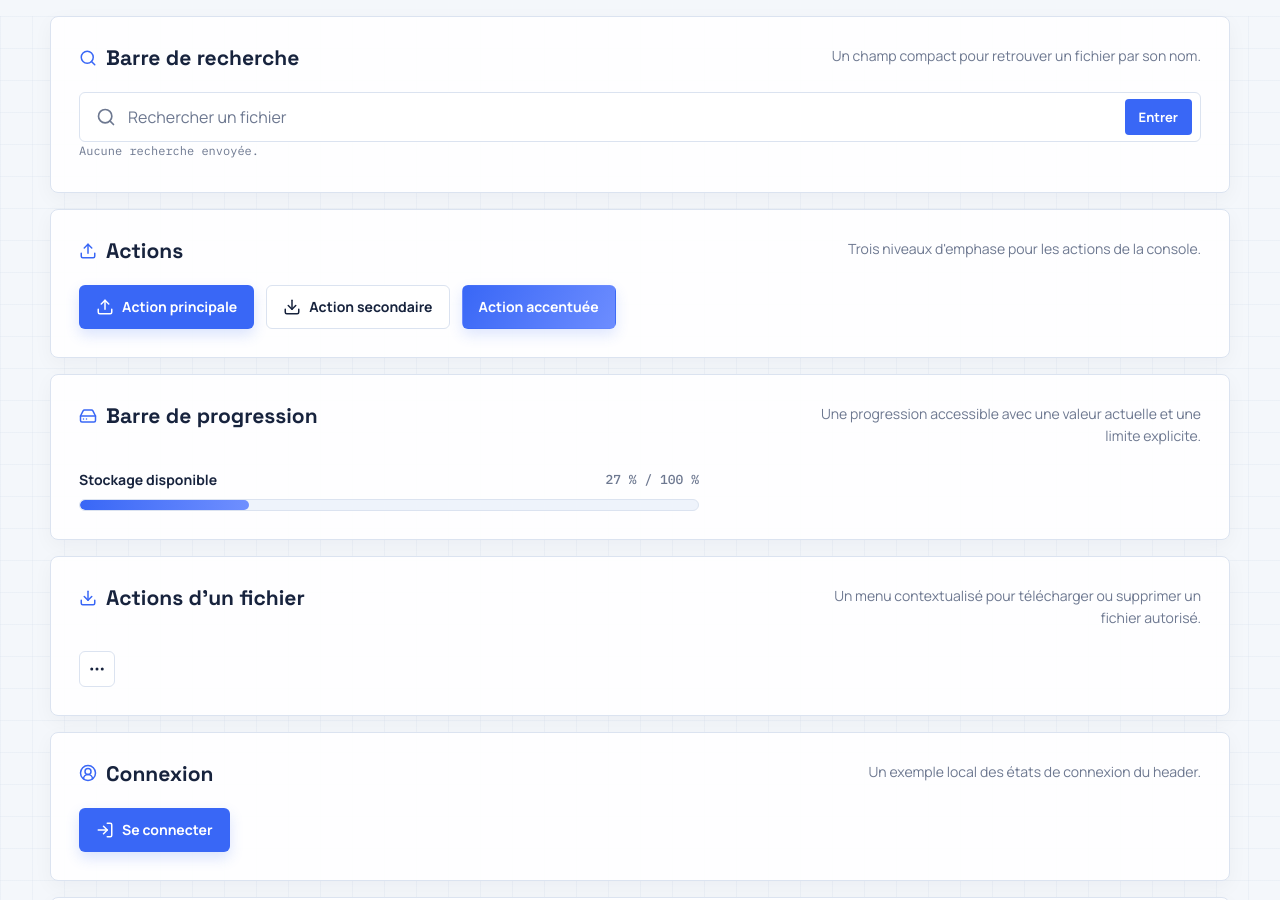
Test: SharedComponentsShowcasePage › displays the submitted search value
Type "rapport.pdf" into the search field labelled "Rechercher un fichier" at (620, 117), box [126, 104, 1115, 131]
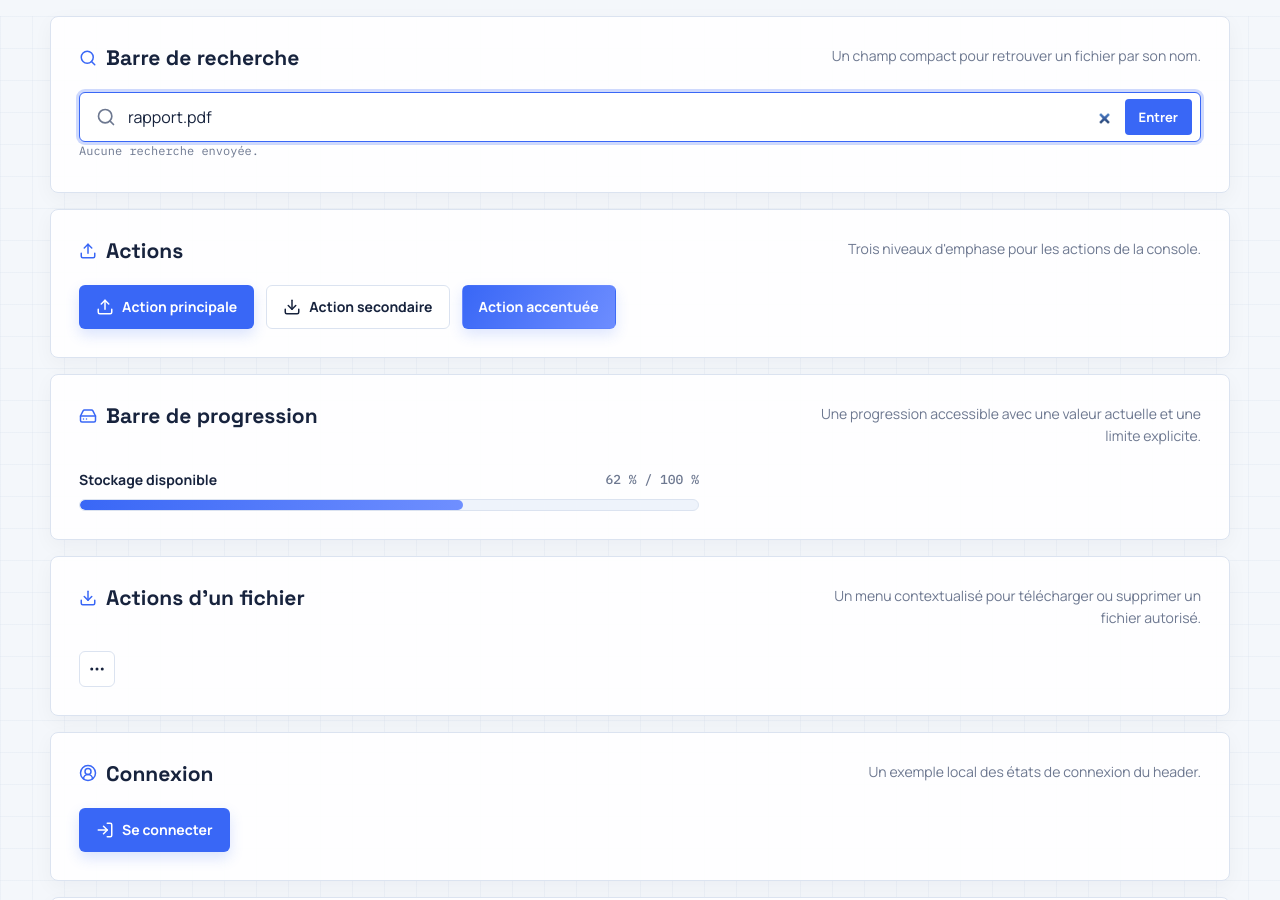
Click the button "Entrer" at (1158, 117), box [1125, 99, 1192, 135]
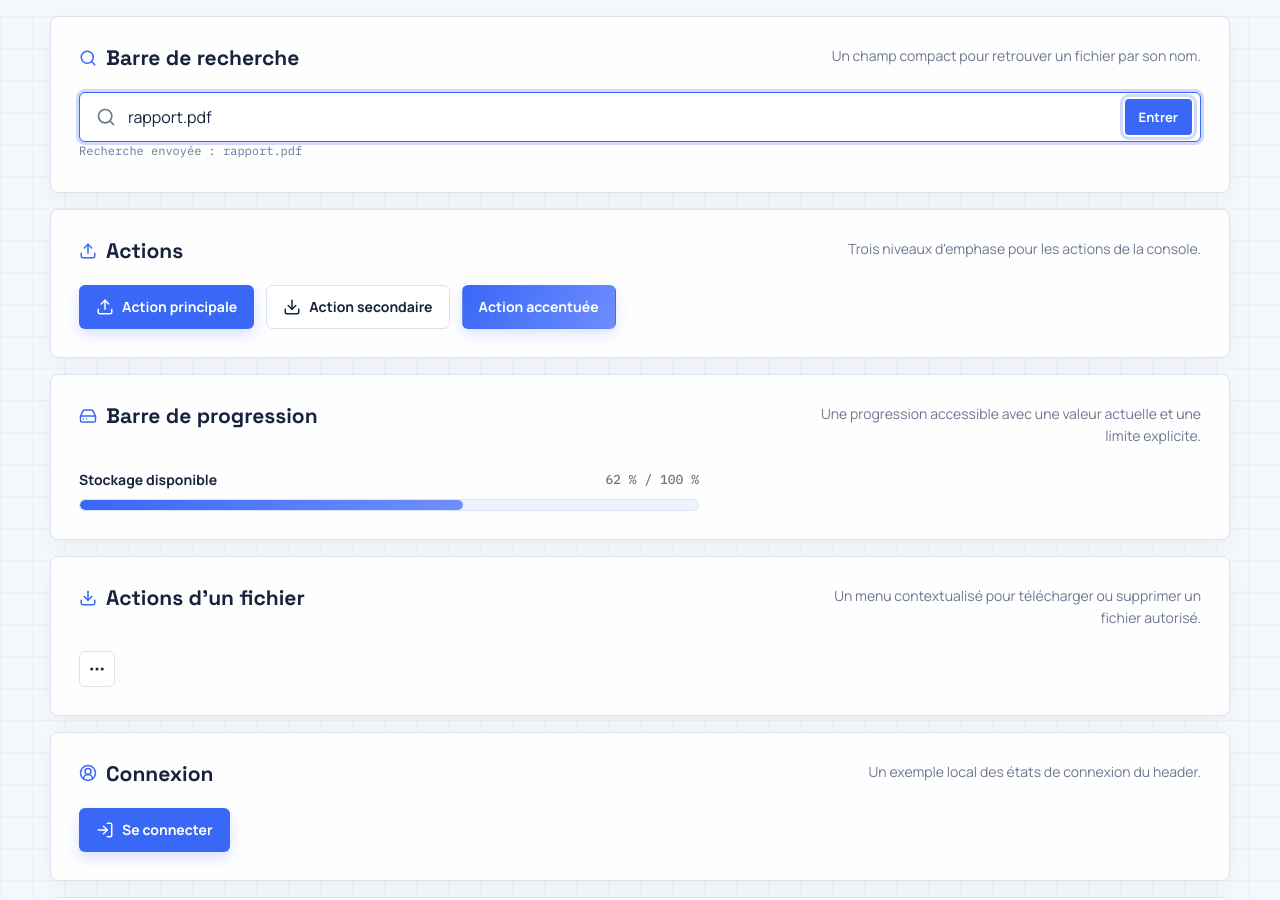
Expected: the text "Recherche envoyée : rapport.pdf" is shown, [79, 143, 302, 158]
